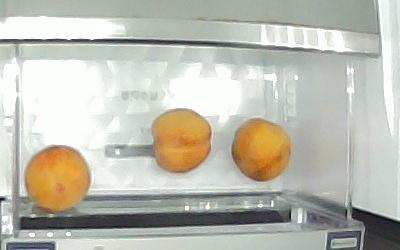peach: (25, 146, 92, 212), (150, 109, 213, 175), (232, 119, 291, 182)
